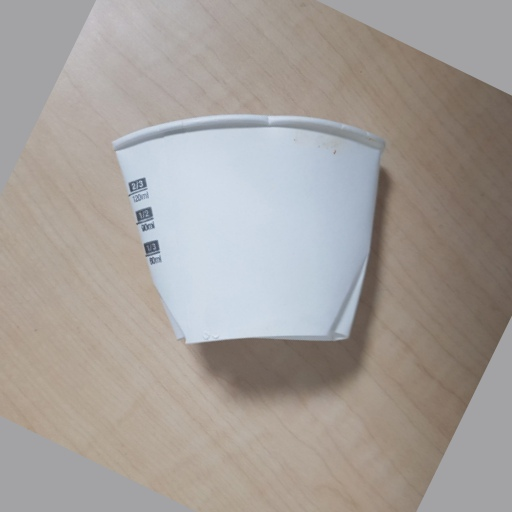Paper_1: (110, 113, 388, 349)
